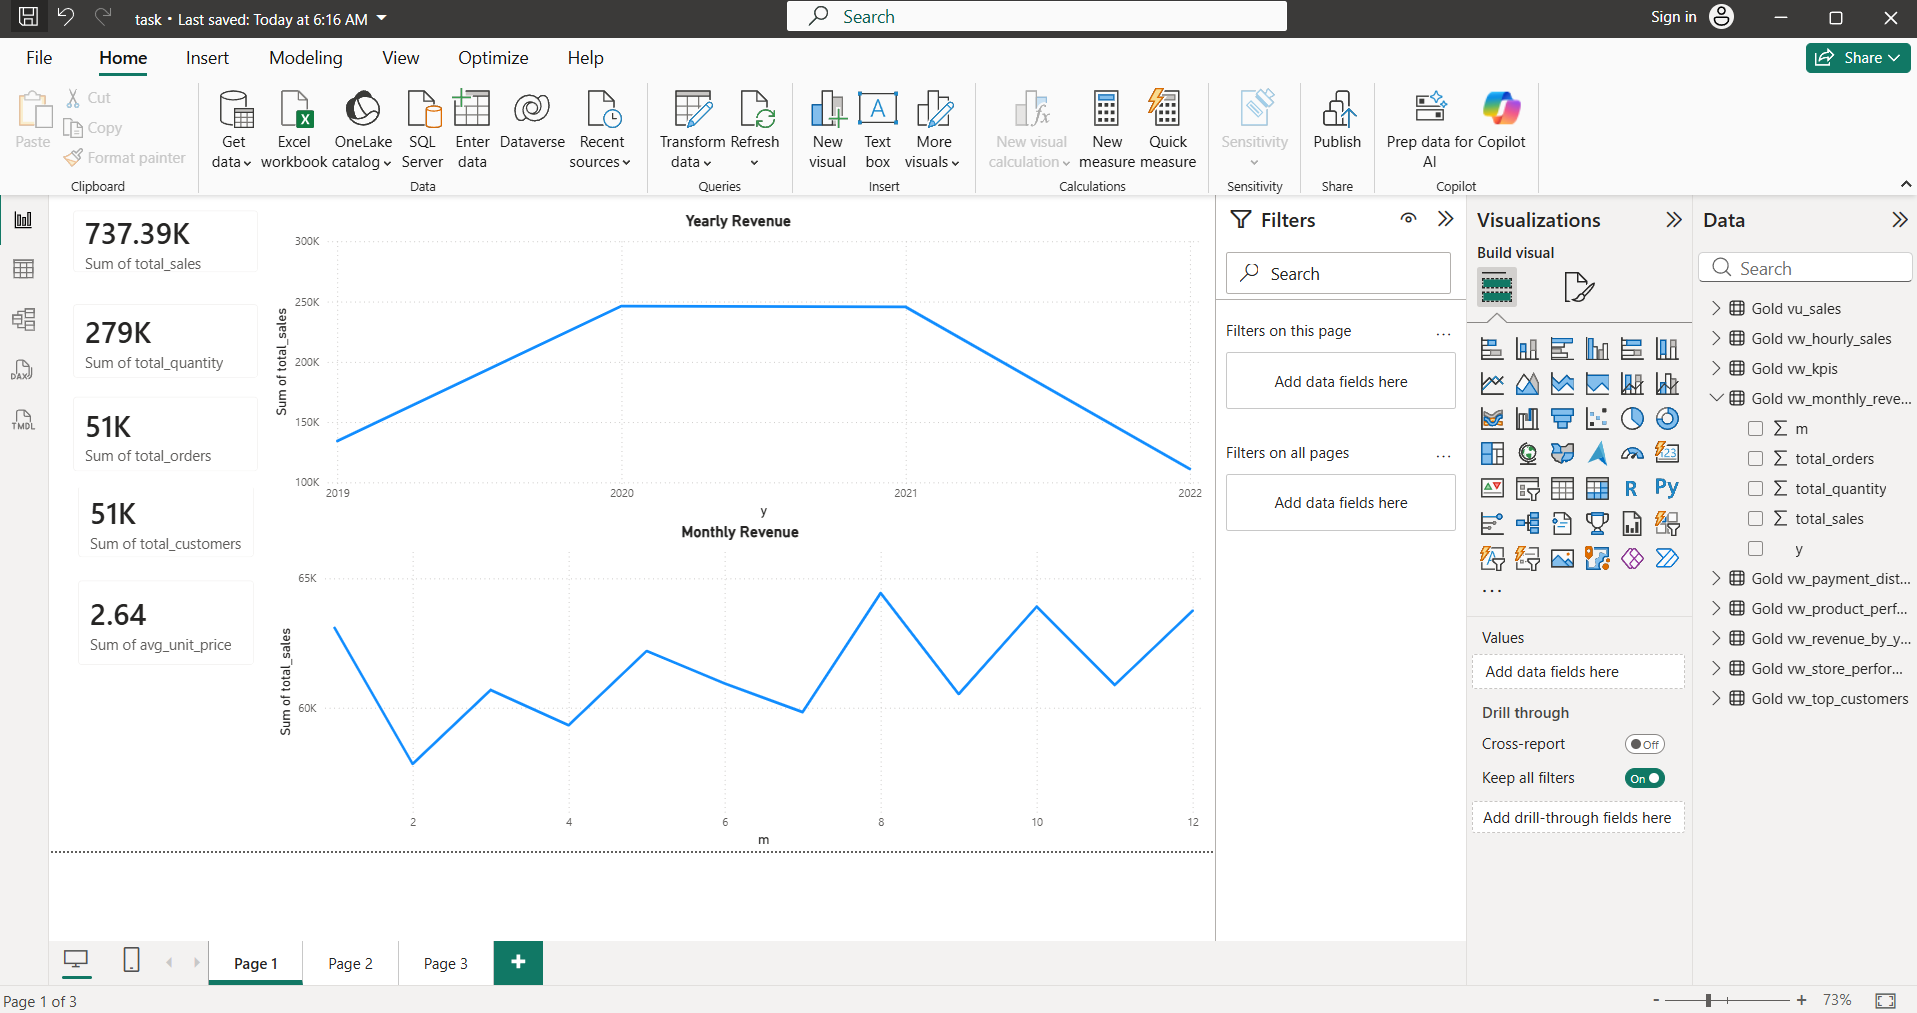

The dashboard page shown, as its layout file describes it:
{"tool":"powerbi","page":{"name":"Page 1","canvas":[1280,720],"ordinal":0},"visuals":[{"type":"cardVisual","fields":{"Data":["Sum(Gold vw_kpis.total_sales)"]},"box":[9.6,0,237.4,102.9],"z":0},{"type":"cardVisual","fields":{"Data":["Sum(Gold vw_kpis.total_quantity)"]},"box":[9.6,102.9,237.4,115.3],"z":1000},{"type":"cardVisual","fields":{"Data":["Sum(Gold vw_kpis.total_customers)"]},"box":[15.1,301.9,227.8,113.9],"z":2000},{"type":"cardVisual","fields":{"Data":["Sum(Gold vw_kpis.avg_unit_price)"]},"box":[15.1,406.2,227.8,127.6],"z":3000},{"type":"cardVisual","fields":{"Data":["Sum(Gold vw_kpis.total_orders)"]},"box":[9.6,204.5,237.4,116.6],"z":4000},{"type":"lineChart","title":"Yearly Revenue","fields":{"Category":["Gold vw_revenue_by_year.y"],"Y":["Sum(Gold vw_revenue_by_year.total_sales)"]},"box":[242.9,17.8,1027.8,341.7],"z":5000},{"type":"lineChart","title":"Monthly Revenue","fields":{"Category":["Gold vw_monthly_revenue.m"],"Y":["Sum(Gold vw_monthly_revenue.total_sales)"]},"box":[247,359.5,1023.7,360.9],"z":6000}]}

Visuals, with their boxes on the page's 1280x720 design canvas (x1, y1, x2, y2). These are canvas units, not pixel positions in the 1917x1013 screenshot, which may show the page scaled, cropped or inside an application window:
cardVisual - Sum(Gold vw_kpis.total_sales): x1=10 y1=0 x2=247 y2=103
cardVisual - Sum(Gold vw_kpis.total_quantity): x1=10 y1=103 x2=247 y2=218
cardVisual - Sum(Gold vw_kpis.total_customers): x1=15 y1=302 x2=243 y2=416
cardVisual - Sum(Gold vw_kpis.avg_unit_price): x1=15 y1=406 x2=243 y2=534
cardVisual - Sum(Gold vw_kpis.total_orders): x1=10 y1=204 x2=247 y2=321
"Yearly Revenue" lineChart: x1=243 y1=18 x2=1271 y2=360
"Monthly Revenue" lineChart: x1=247 y1=360 x2=1271 y2=720
